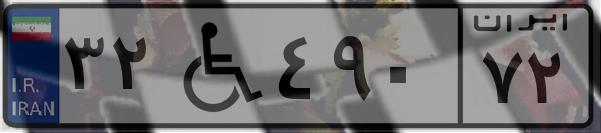0: (385, 28, 445, 110)
2: (525, 38, 570, 115), (110, 28, 158, 98)
3: (57, 26, 110, 100)
4: (270, 28, 330, 110)
7: (475, 38, 525, 113)
9: (330, 28, 385, 110)
ژ (معلولین و جانبازان): (158, 12, 270, 120)
